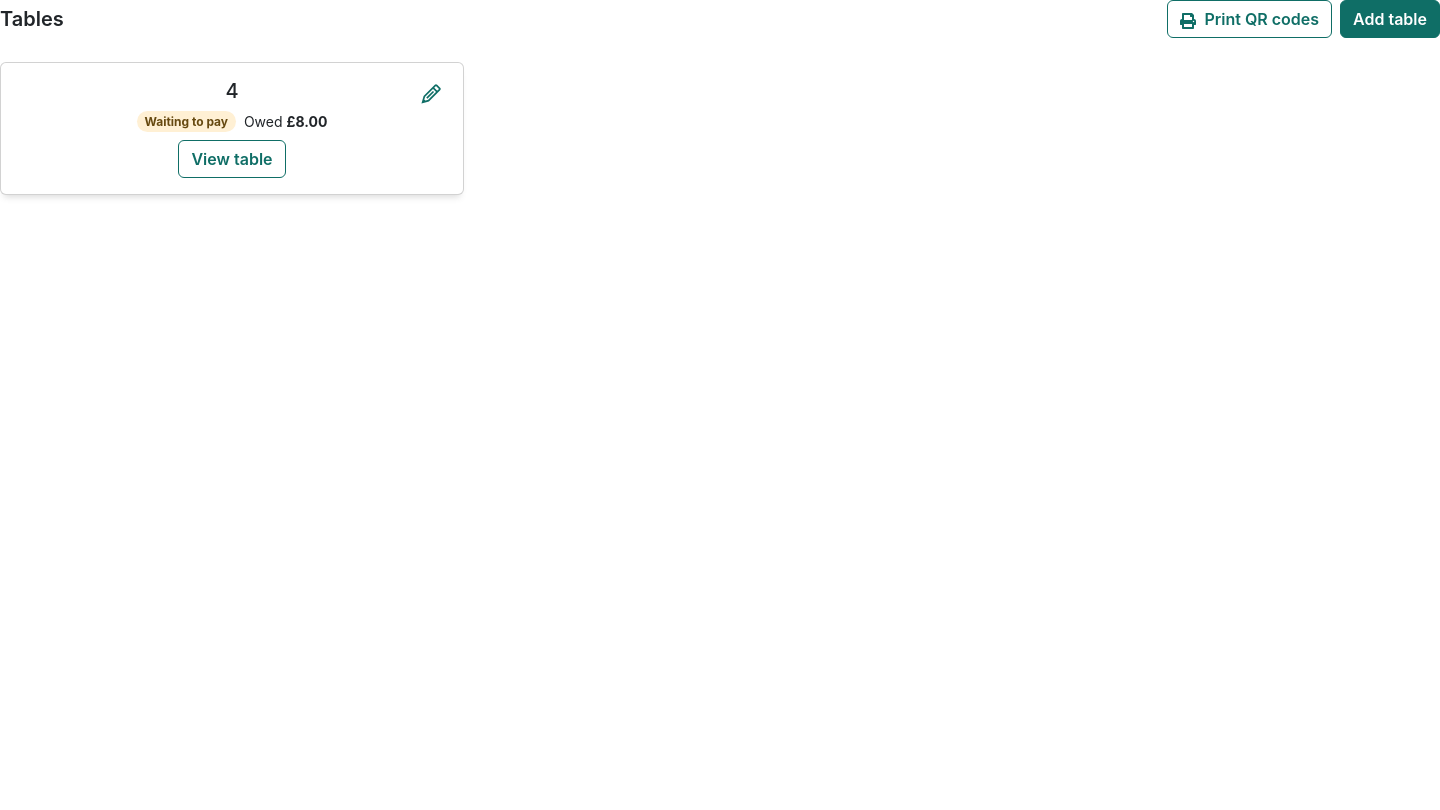
table sheet actions › closing says what will be dropped, then closes, reloads the sheet and refreshes the cards
Click the button with aria-label "View table 4" at (232, 159), box [178,140,286,178]
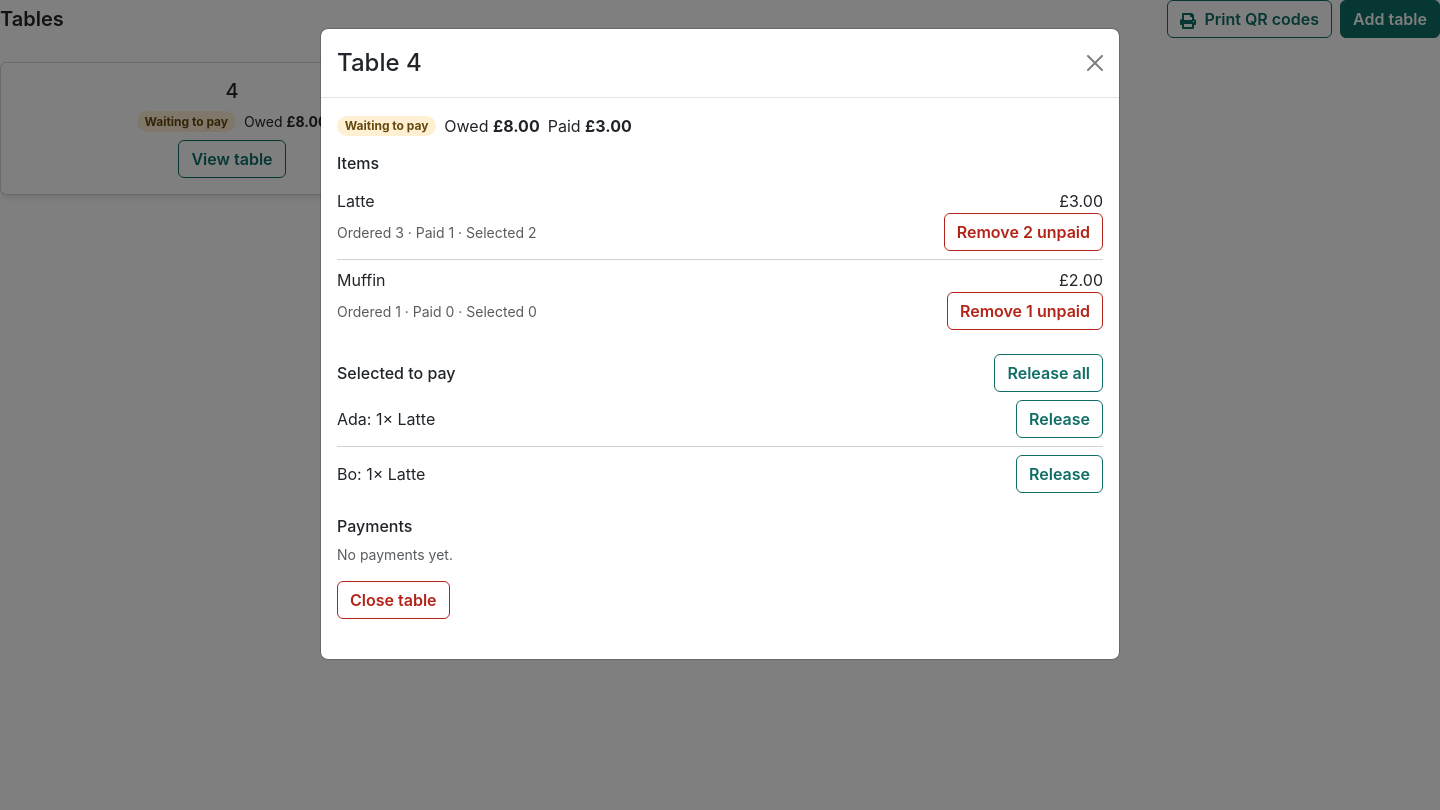
Click the button "Close table" at (393, 600), box [337,581,450,619]
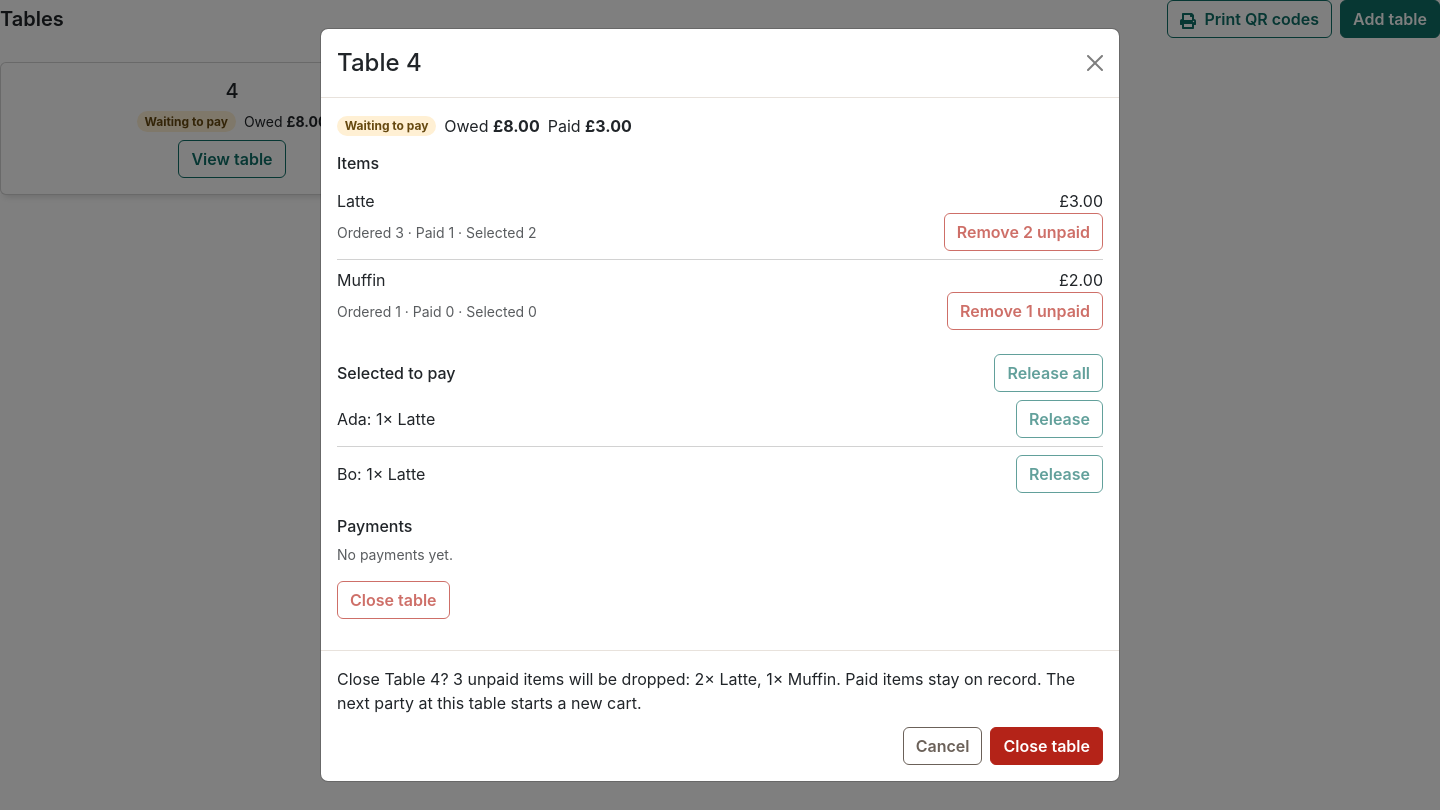
Now the text "Close Table 4?" shows "Close Table 4? 3 unpaid items will be dropped: 2× Latte, 1× Muffin. Paid items stay on record. The next party at this table starts a new cart.", box [337,669,1075,713]
Click the 2nd button "Close table" at (1047, 746), box [990,727,1103,765]
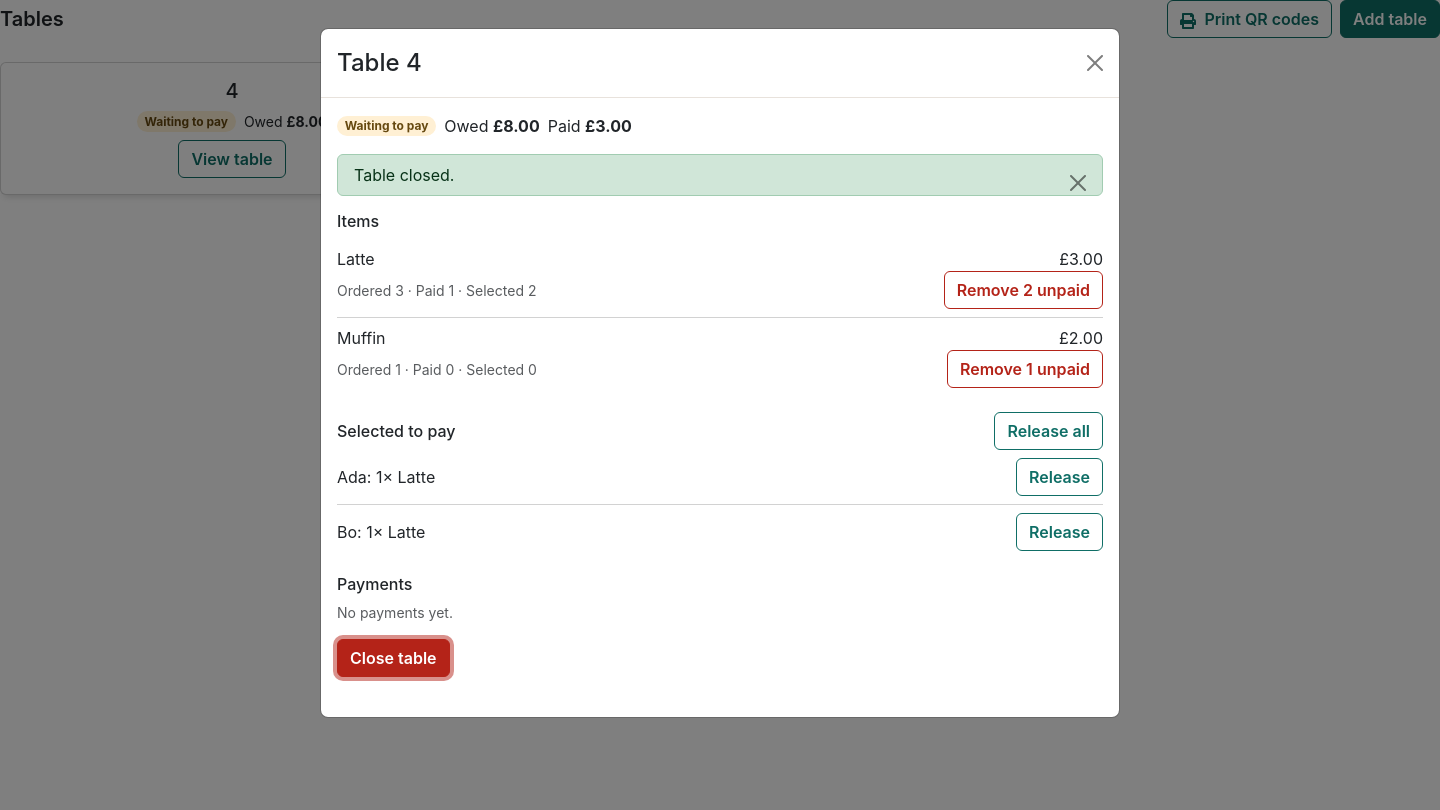
Now the text "Table closed." is shown, box [337,154,1103,196]
